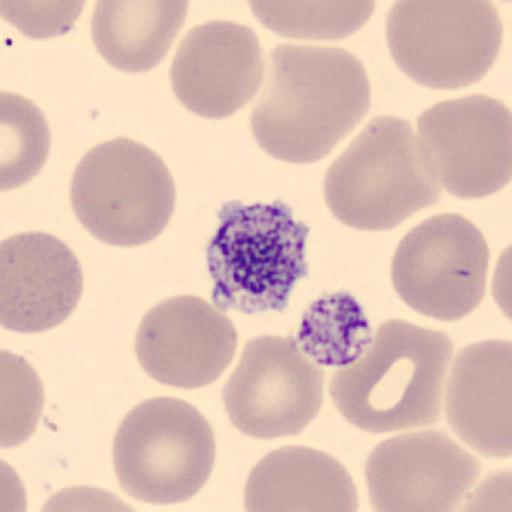Platelet: (203, 194, 313, 318), (292, 286, 375, 368)
RBC: (247, 41, 373, 166), (321, 114, 443, 233), (329, 317, 452, 435), (68, 134, 178, 250), (110, 393, 218, 508), (220, 331, 325, 443), (388, 211, 492, 324), (383, 0, 504, 92), (132, 292, 240, 392), (413, 92, 511, 202), (168, 18, 266, 122), (363, 430, 478, 512), (2, 228, 86, 336), (242, 441, 361, 512), (443, 336, 512, 457), (90, 0, 190, 76), (241, 0, 378, 42), (2, 90, 52, 192), (2, 347, 46, 450), (2, 0, 90, 42), (36, 482, 146, 512), (448, 469, 511, 512), (490, 244, 512, 323), (1, 457, 29, 512)
